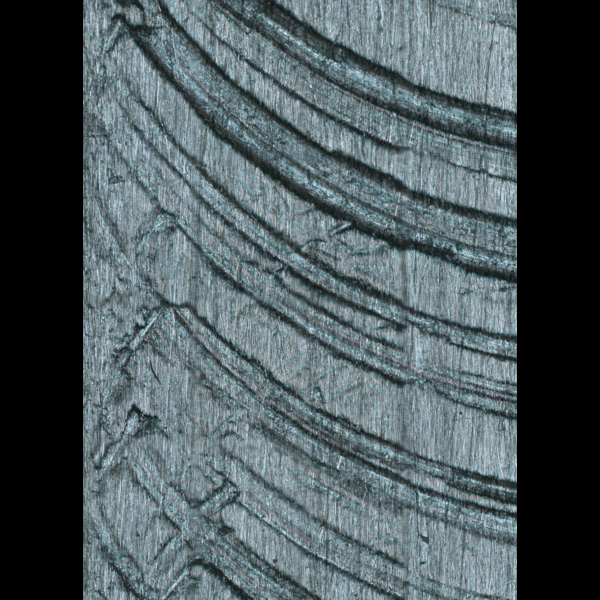d: (83, 4, 511, 600)
